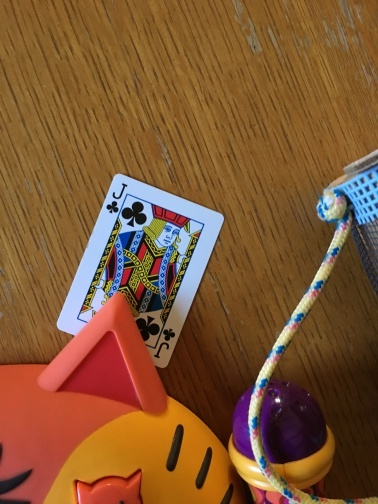jack: (55, 174, 212, 354)
